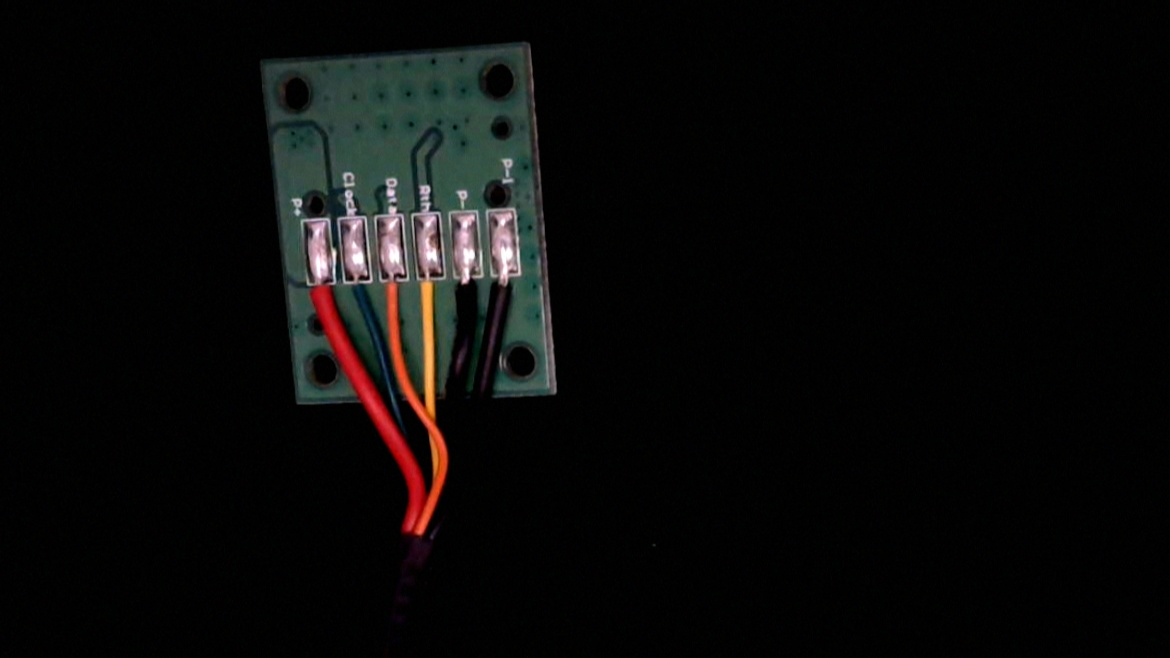Black: (452, 261, 480, 327)
Black1: (489, 261, 520, 326)
Green: (340, 268, 378, 317)
Orange: (377, 266, 409, 321)
Red: (300, 269, 340, 315)
Yellow: (414, 262, 445, 322)
